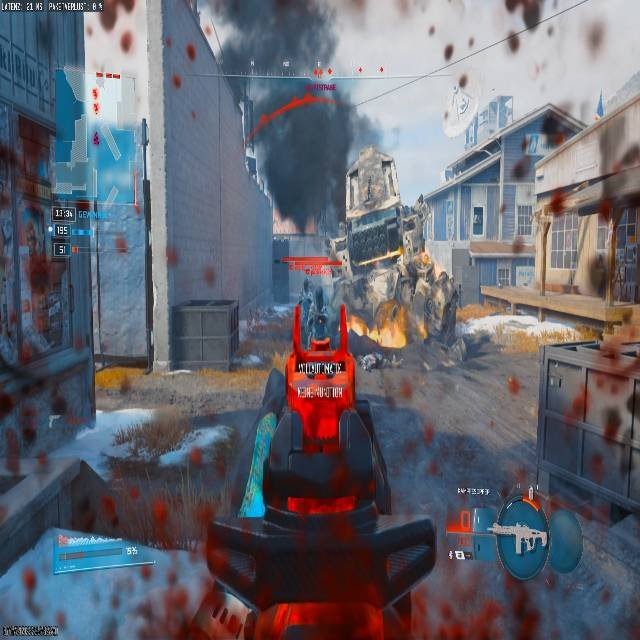player: (302, 278, 313, 301)
